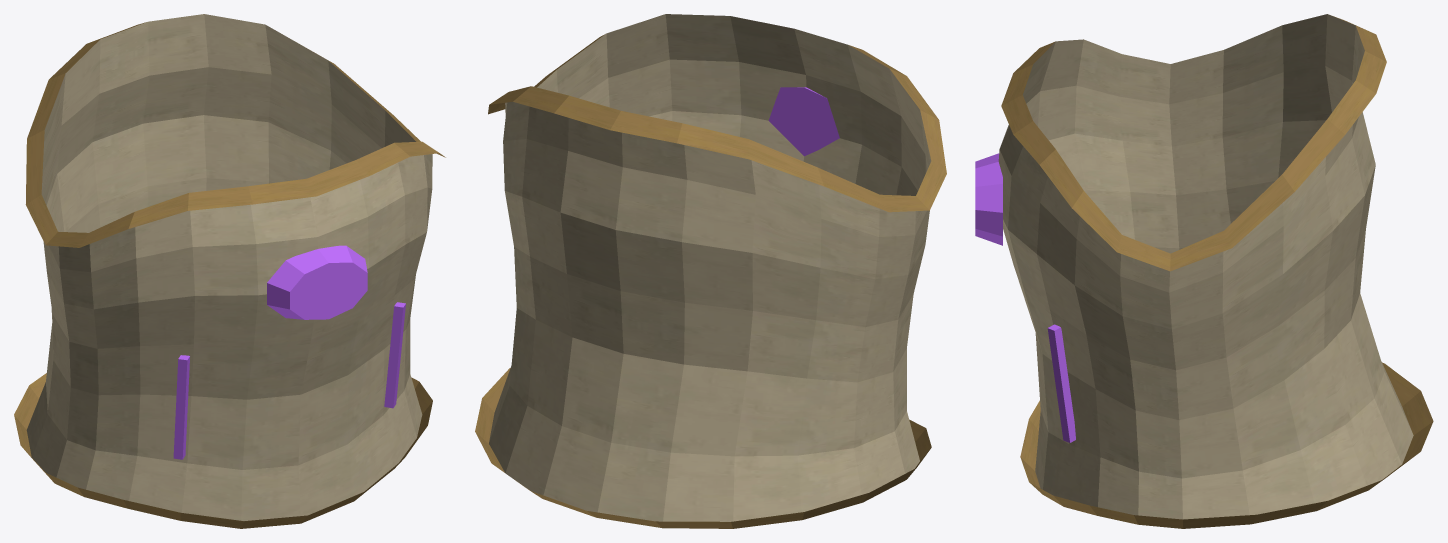
File: eq_future_3_chest.glb
3 renders of one model, left to right at view 1: azimuth 30°, elevation 25°; view 2: azimuth 150°, elevation 25°; view 3: azimuth 270°, elevation 25°, orthographic. The views are drawn at different scales.
Visible parts, largest first — view 1: eq_future_3_chest; view 2: eq_future_3_chest; view 3: eq_future_3_chest.
Part boxes in pixels (x1,y1,x2,y2): eq_future_3_chest: (14, 14, 445, 528); eq_future_3_chest: (475, 14, 946, 528); eq_future_3_chest: (975, 14, 1433, 528).
Bounding box in the file's own units: 0.4602 × 0.4447 × 0.4393.
3 materials, 2 textured.
